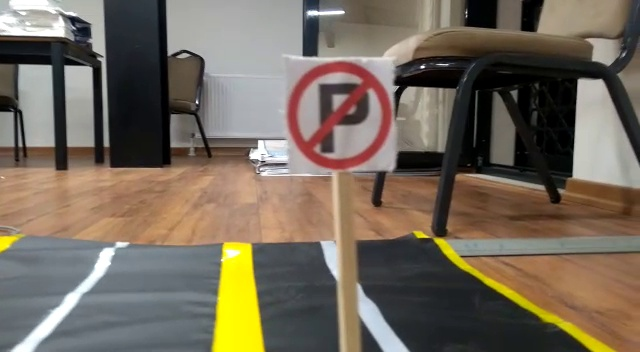park_yapilmaz: (281, 55, 398, 167)
